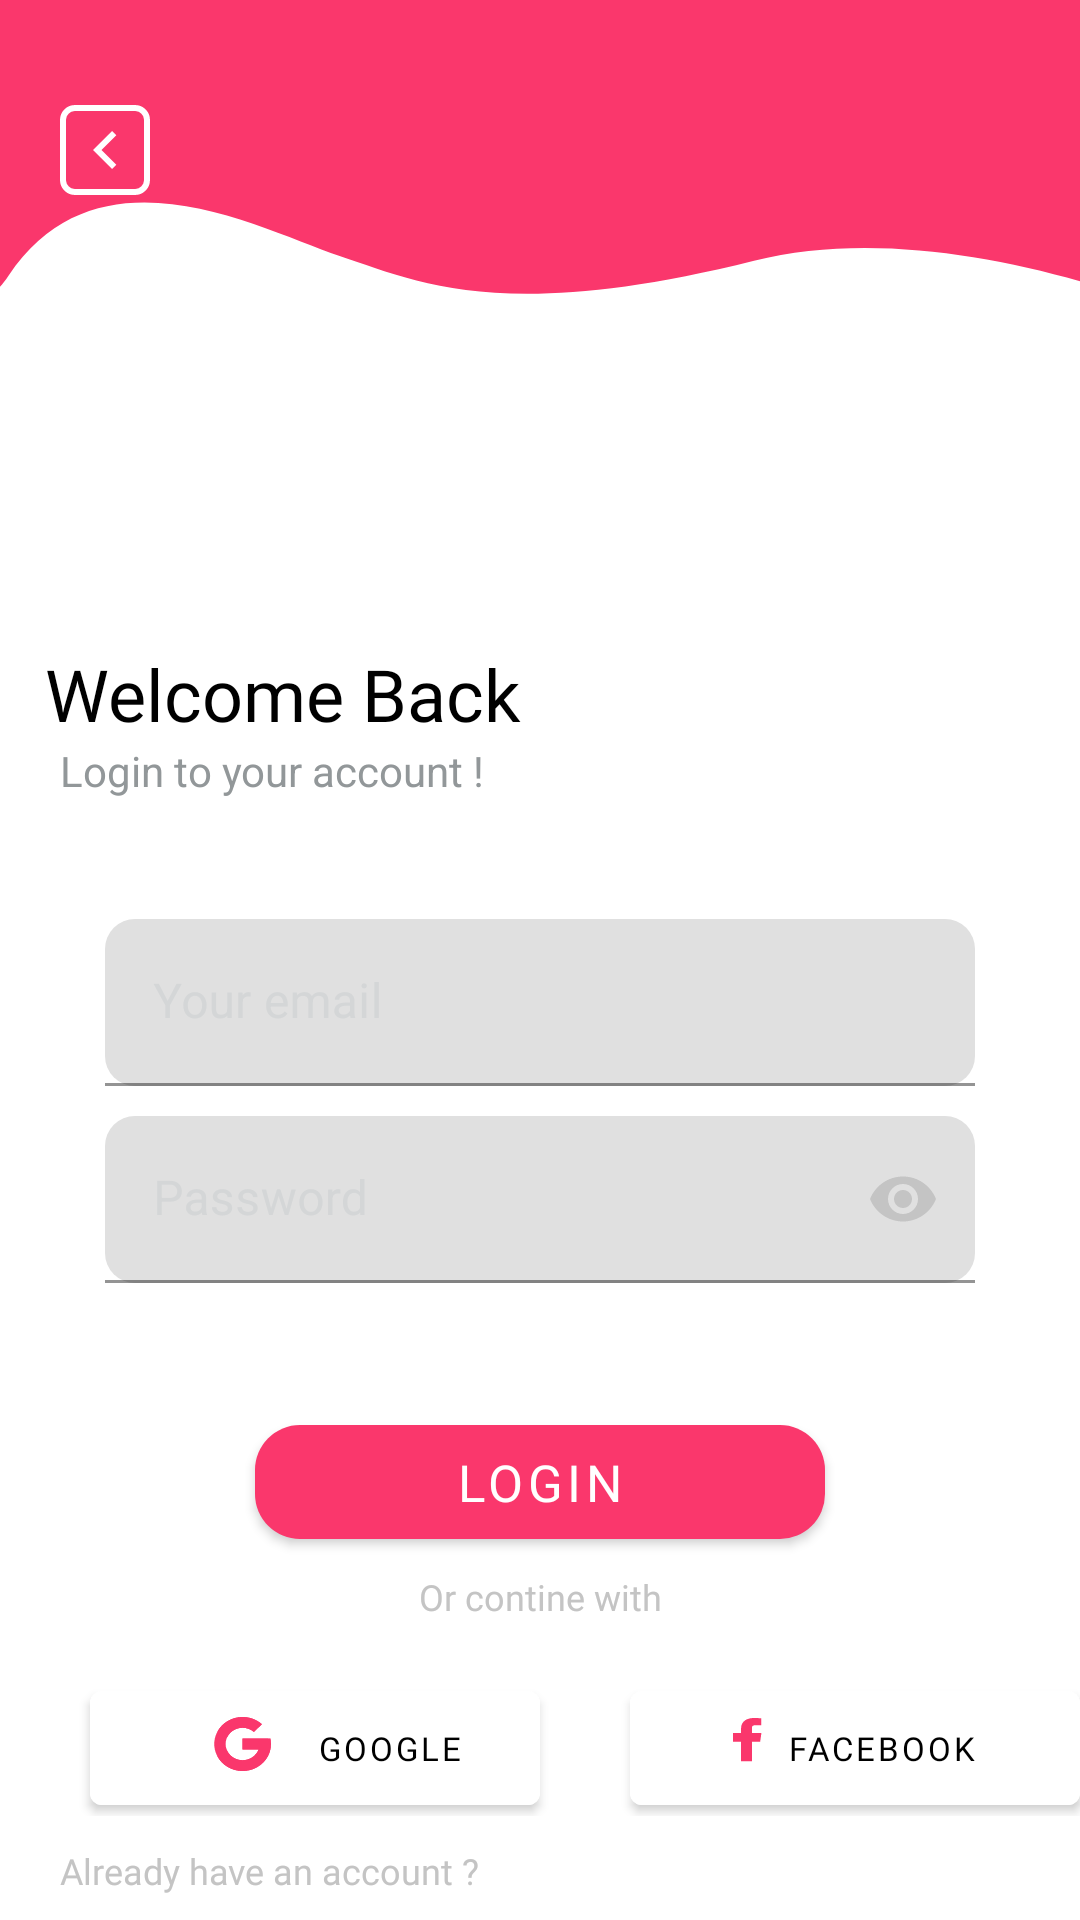

Icons on this 1080x1920 Android screen, each with the point to tap as (x,y):
back bnt: (105,150)
